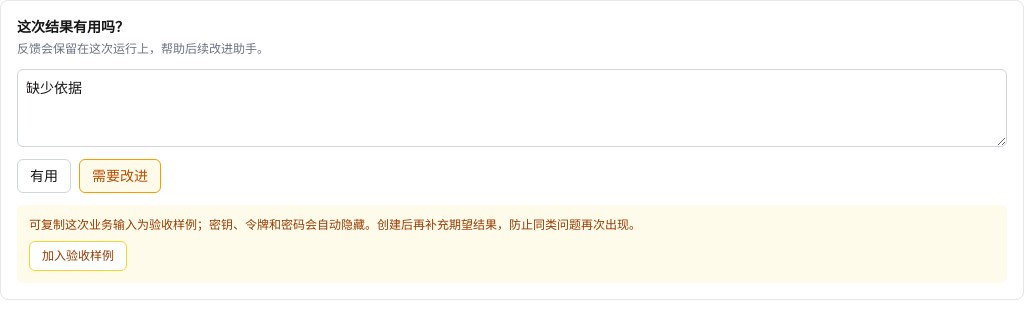
运行结果反馈 › 差评可以复制真实输入为验收样例且不会重复创建
Click the button "加入验收样例".
click(78, 256)  # box [29,241,127,271]
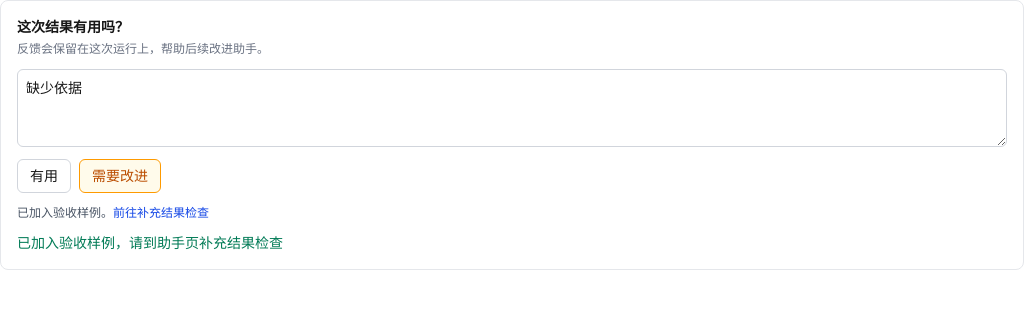
Expected: the message shows "已加入验收样例", [17,235,283,251]
